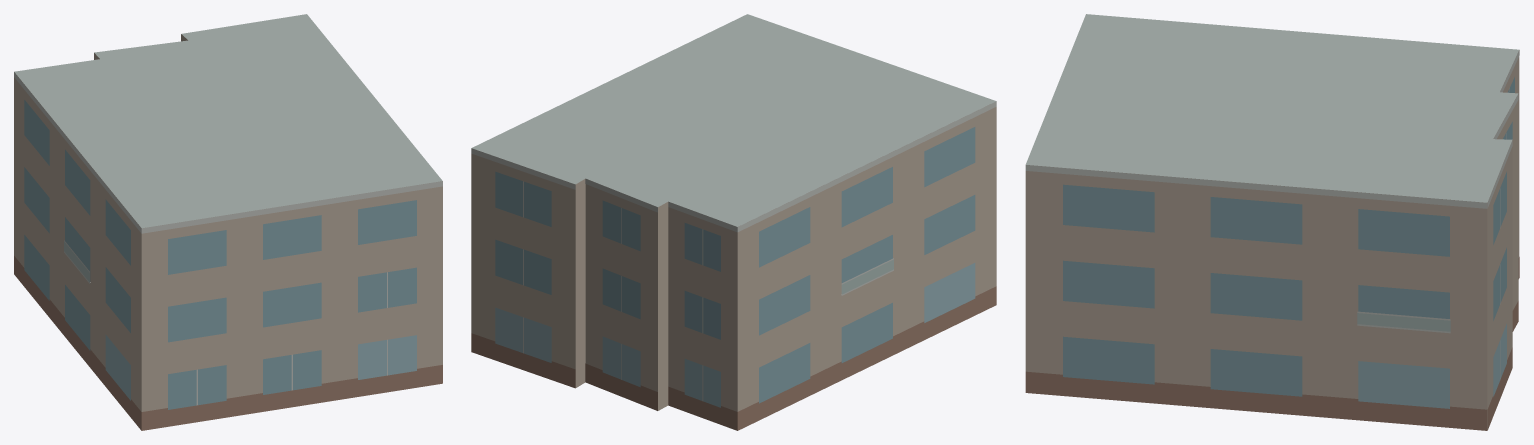
The model's file is survey-upis-32777617.glb.
The picture shows the model from 3 angles, left to right: view 1: azimuth 30°, elevation 25°; view 2: azimuth 150°, elevation 25°; view 3: azimuth 270°, elevation 25°; orthographic projection. The views are drawn at different scales.
Visible parts, largest first — view 1: survey-upis-32777617.tmp; view 2: survey-upis-32777617.tmp; view 3: survey-upis-32777617.tmp.
Part boxes in pixels (x1,y1,x2,y2): survey-upis-32777617.tmp: [14, 14, 442, 430]; survey-upis-32777617.tmp: [471, 14, 996, 430]; survey-upis-32777617.tmp: [1025, 14, 1519, 430].
Bounding box in the file's own units: 16.25 × 9.15 × 17.96.
